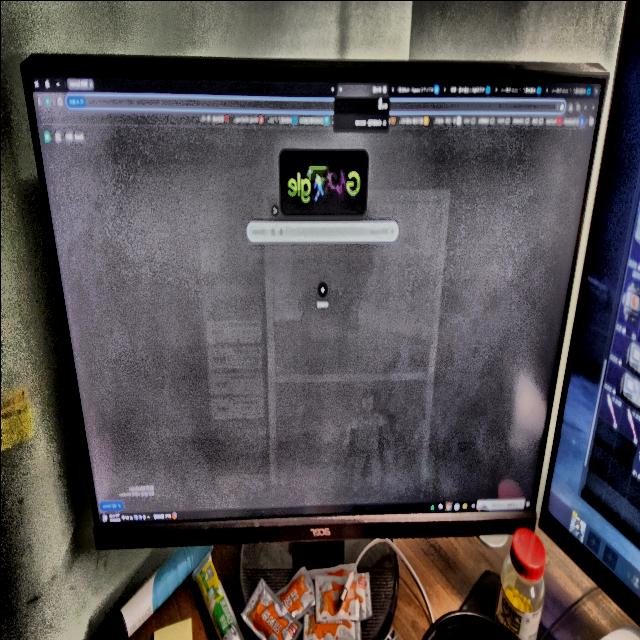Screen: (20, 54, 605, 546), (539, 0, 640, 619)
